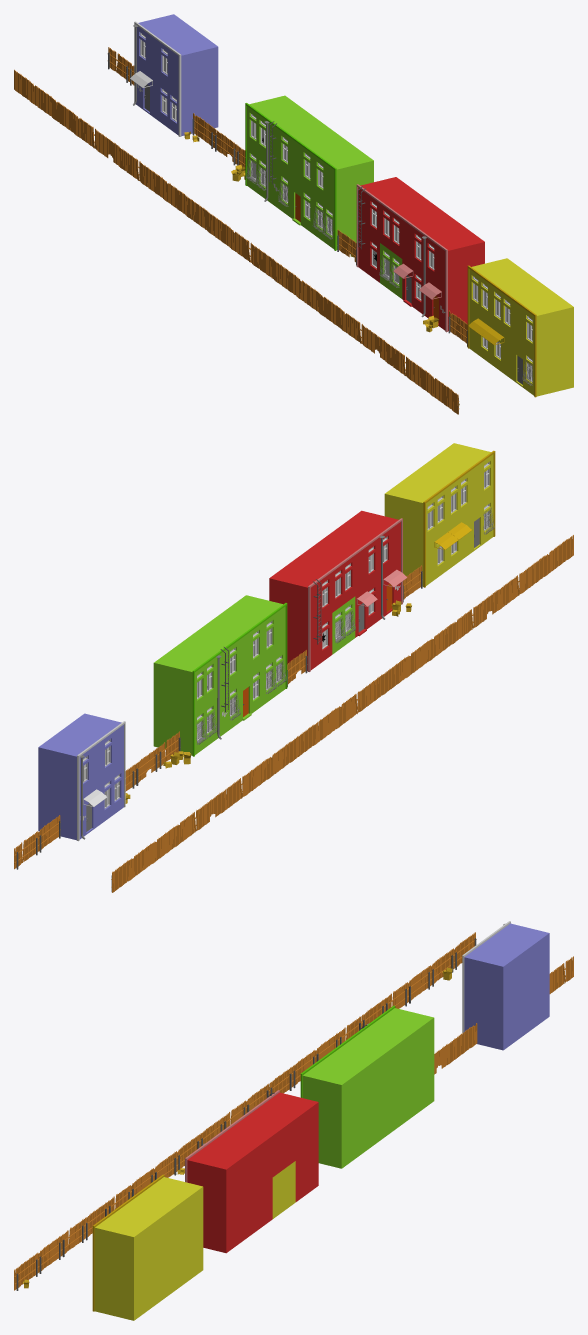
Rendered from Street001.FBX.
3 renders of one model, top to bottom at view 1: azimuth 30°, elevation 25°; view 2: azimuth 150°, elevation 25°; view 3: azimuth 330°, elevation 25°, orthographic. The views are drawn at different scales.
Parts seen in each view (by area): view 1: Object046; view 2: Object046; view 3: Object046.
Boxes of the visible parts, bbox=[...] form: Object046: bbox=[14, 14, 573, 414]; Object046: bbox=[14, 443, 573, 892]; Object046: bbox=[14, 921, 573, 1320].
Bounding box in the file's own units: 9.06 × 6.23 × 60.07.
